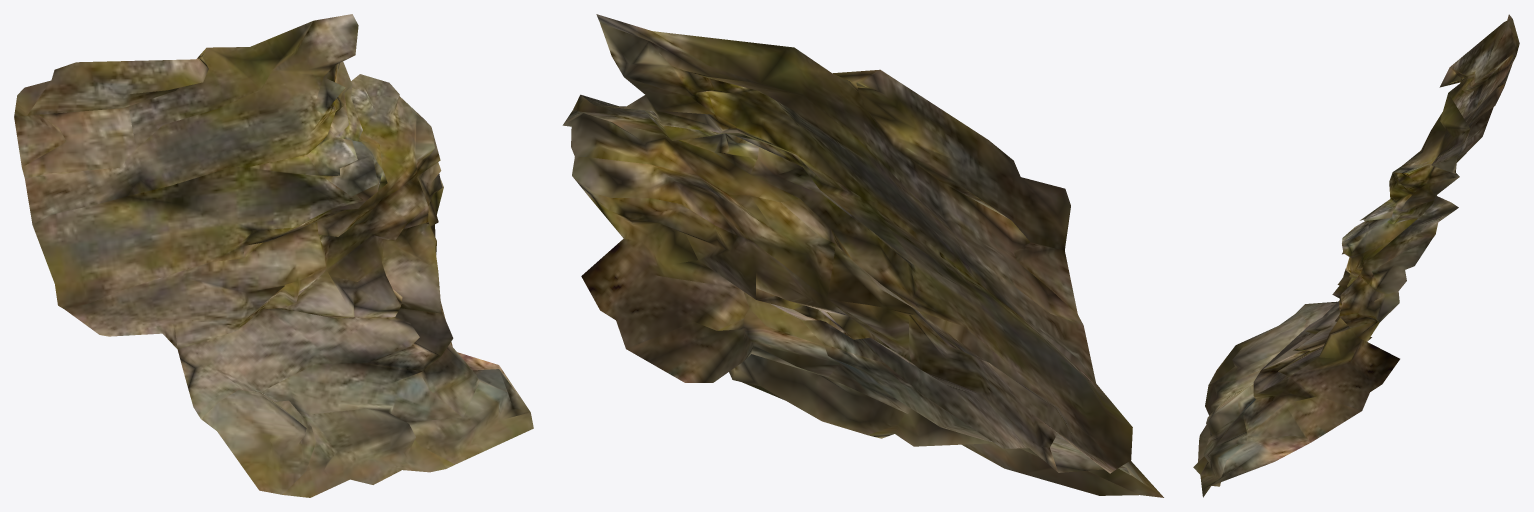
Rendered from rock_face_02_lod1.glb.
3 renders of one model, left to right at view 1: azimuth 30°, elevation 25°; view 2: azimuth 150°, elevation 25°; view 3: azimuth 270°, elevation 25°, orthographic. The views are drawn at different scales.
Visible parts, largest first — view 1: rock_face_02; view 2: rock_face_02; view 3: rock_face_02.
Part boxes in pixels (<box>): rock_face_02: <box>14,14,533,497</box>; rock_face_02: <box>562,14,1163,497</box>; rock_face_02: <box>1193,14,1519,497</box>.
Bounding box in the file's own units: 2.7 × 2.47 × 2.13.
Materials: 1 (1 with a texture image).
